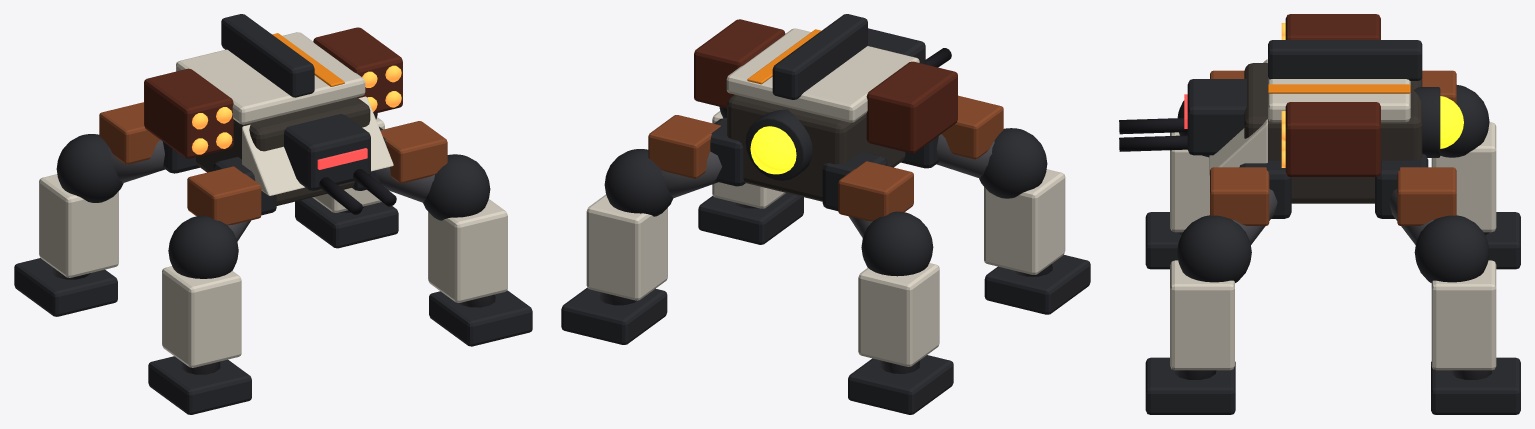
Rendered from Colossus.fbx.
3 renders of one model, left to right at view 1: azimuth 30°, elevation 25°; view 2: azimuth 150°, elevation 25°; view 3: azimuth 270°, elevation 25°, orthographic. The views are drawn at different scales.
Parts seen in each view (by area): view 1: Part__Metal__2b2c30, Part__SmoothPlastic__d9d2c3, Part__CorrodedMetal__8a4a2c, Part__CorrodedMetal__5a2a1e, Part__Metal__3c3732, Part__Metal__4a4a4f, Part__Neon__ff5a28, Part__Metal__1e1e22, Part__Metal__38383d, Part__SmoothPlastic__ff8c1e, Eye__Neon__ff2828; view 2: Part__Metal__2b2c30, Part__SmoothPlastic__d9d2c3, Part__CorrodedMetal__5a2a1e, Part__CorrodedMetal__8a4a2c, Part__Metal__3c3732, Part__Metal__4a4a4f, WeakPoint__Neon__ff8c1e, Part__Metal__38383d, Part__SmoothPlastic__ff8c1e; view 3: Part__Metal__2b2c30, Part__SmoothPlastic__d9d2c3, Part__CorrodedMetal__5a2a1e, Part__CorrodedMetal__8a4a2c, Part__Metal__3c3732, Part__Metal__1e1e22, Part__SmoothPlastic__ff8c1e, WeakPoint__Neon__ff8c1e, Part__Metal__4a4a4f, Part__Metal__38383d, Part__Neon__ff5a28.
Boxes of the visible parts, bbox=[...] form: Part__Metal__2b2c30: bbox=[14, 14, 532, 414]; Part__SmoothPlastic__d9d2c3: bbox=[39, 32, 507, 367]; Part__CorrodedMetal__8a4a2c: bbox=[99, 102, 447, 225]; Part__CorrodedMetal__5a2a1e: bbox=[144, 27, 402, 158]; Part__Metal__3c3732: bbox=[196, 97, 370, 205]; Part__Metal__4a4a4f: bbox=[108, 140, 434, 241]; Part__Neon__ff5a28: bbox=[192, 65, 401, 154]; Part__Metal__1e1e22: bbox=[319, 169, 396, 214]; Part__Metal__38383d: bbox=[51, 206, 495, 374]; Part__SmoothPlastic__ff8c1e: bbox=[272, 33, 344, 86]; Eye__Neon__ff2828: bbox=[317, 148, 367, 169]; Part__Metal__2b2c30: bbox=[561, 14, 1090, 414]; Part__SmoothPlastic__d9d2c3: bbox=[586, 28, 1065, 366]; Part__CorrodedMetal__5a2a1e: bbox=[694, 19, 957, 153]; Part__CorrodedMetal__8a4a2c: bbox=[648, 95, 1003, 221]; Part__Metal__3c3732: bbox=[727, 94, 905, 201]; Part__Metal__4a4a4f: bbox=[661, 134, 994, 237]; WeakPoint__Neon__ff8c1e: bbox=[750, 126, 796, 174]; Part__Metal__38383d: bbox=[599, 201, 1052, 373]; Part__SmoothPlastic__ff8c1e: bbox=[747, 29, 821, 84]; Part__Metal__2b2c30: bbox=[1145, 40, 1520, 414]; Part__SmoothPlastic__d9d2c3: bbox=[1170, 59, 1496, 370]; Part__CorrodedMetal__5a2a1e: bbox=[1285, 14, 1380, 176]; Part__CorrodedMetal__8a4a2c: bbox=[1210, 70, 1456, 225]; Part__Metal__3c3732: bbox=[1244, 63, 1422, 203]; Part__Metal__1e1e22: bbox=[1119, 118, 1187, 151]; Part__SmoothPlastic__ff8c1e: bbox=[1268, 84, 1410, 93]; WeakPoint__Neon__ff8c1e: bbox=[1440, 96, 1463, 148]; Part__Metal__4a4a4f: bbox=[1233, 189, 1433, 244]; Part__Metal__38383d: bbox=[1174, 232, 1492, 379]; Part__Neon__ff5a28: bbox=[1281, 23, 1285, 167].
Bounding box in the file's own units: 7.14 × 5.32 × 6.76.
